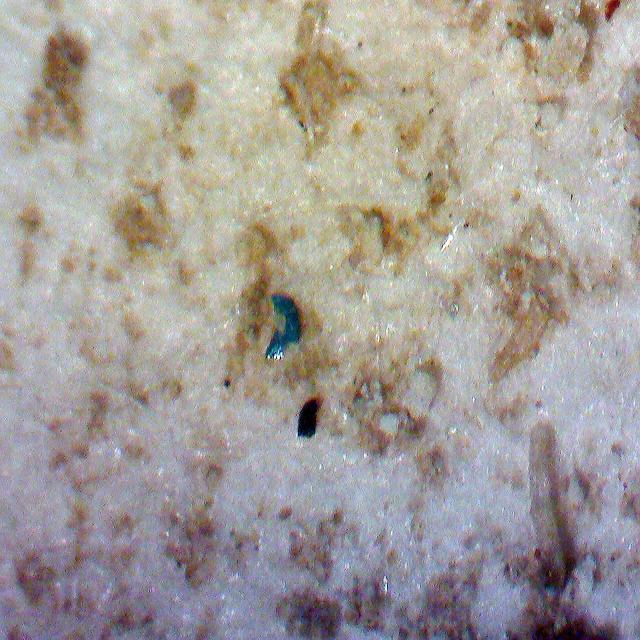microplastic: (263, 291, 301, 361)
